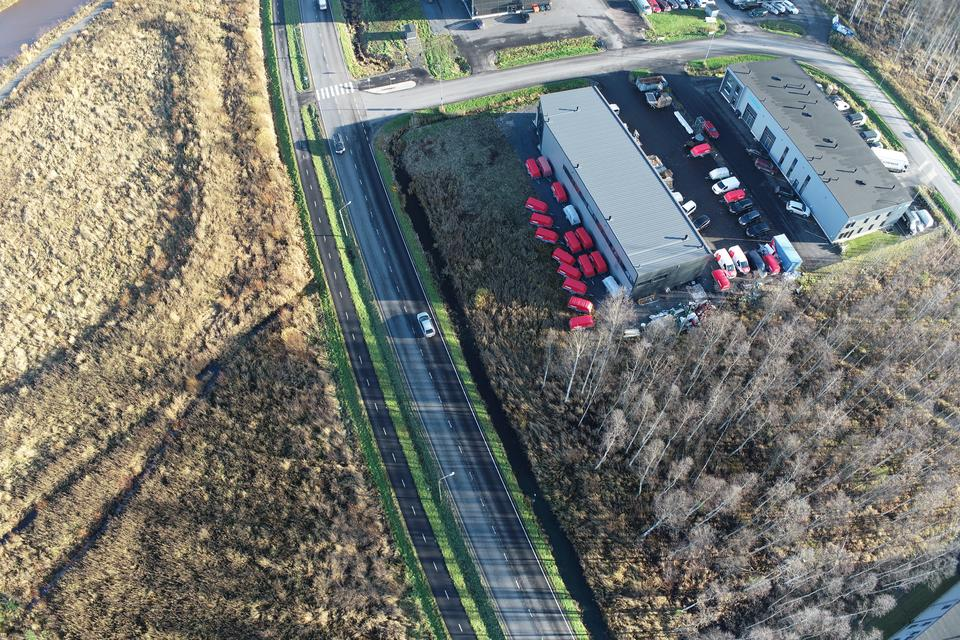intersection: (256, 61, 457, 145)
